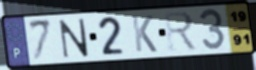2: (98, 15, 129, 58)
3: (198, 6, 227, 53)
7: (28, 17, 53, 63)
K: (130, 14, 159, 54)
N: (58, 17, 91, 60)
R: (162, 10, 200, 53)
